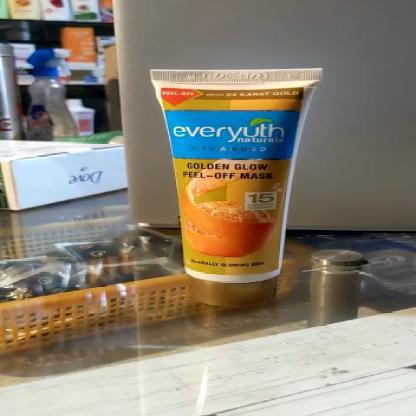EY ADVANCED GOLDEN GLOW PEEL OFF M- 90G: (152, 66, 322, 310)
